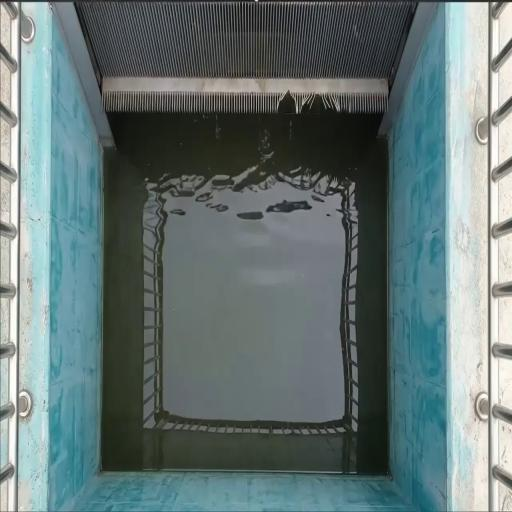rake: (75, 0, 417, 114)
rake_broken: (263, 84, 349, 128)
